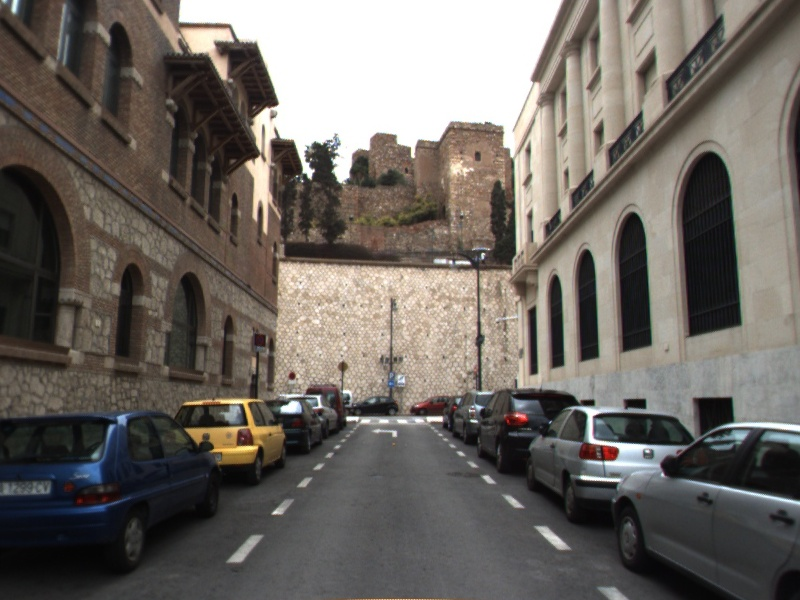LEFT: (369, 426, 400, 439)
